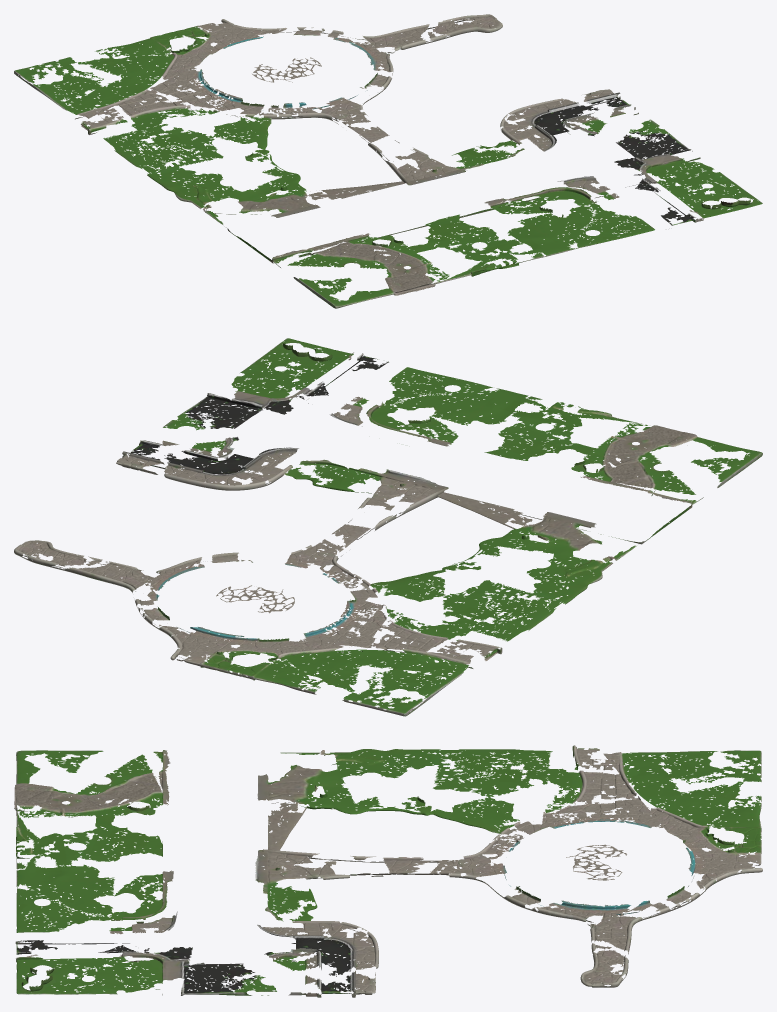
Rendered from plaza-day-ground.glb.
3 views of the same model, one above another, from view 1: azimuth 30°, elevation 25°; view 2: azimuth 150°, elevation 25°; view 3: azimuth 270°, elevation 25° (orthographic). The views are drawn at different scales.
Visible parts, largest first — view 1: tripo_node_c0184c23-2734-491e-80f1-2af3ada3beb5; view 2: tripo_node_c0184c23-2734-491e-80f1-2af3ada3beb5; view 3: tripo_node_c0184c23-2734-491e-80f1-2af3ada3beb5.
Part boxes in pixels (left/top/right/bottom): tripo_node_c0184c23-2734-491e-80f1-2af3ada3beb5: left=14, top=14, right=762, bottom=308; tripo_node_c0184c23-2734-491e-80f1-2af3ada3beb5: left=14, top=338, right=762, bottom=716; tripo_node_c0184c23-2734-491e-80f1-2af3ada3beb5: left=14, top=745, right=762, bottom=997.
Bounding box in the file's own units: 0.7614 × 0.0139 × 0.9806.
1 material, 1 textured.
